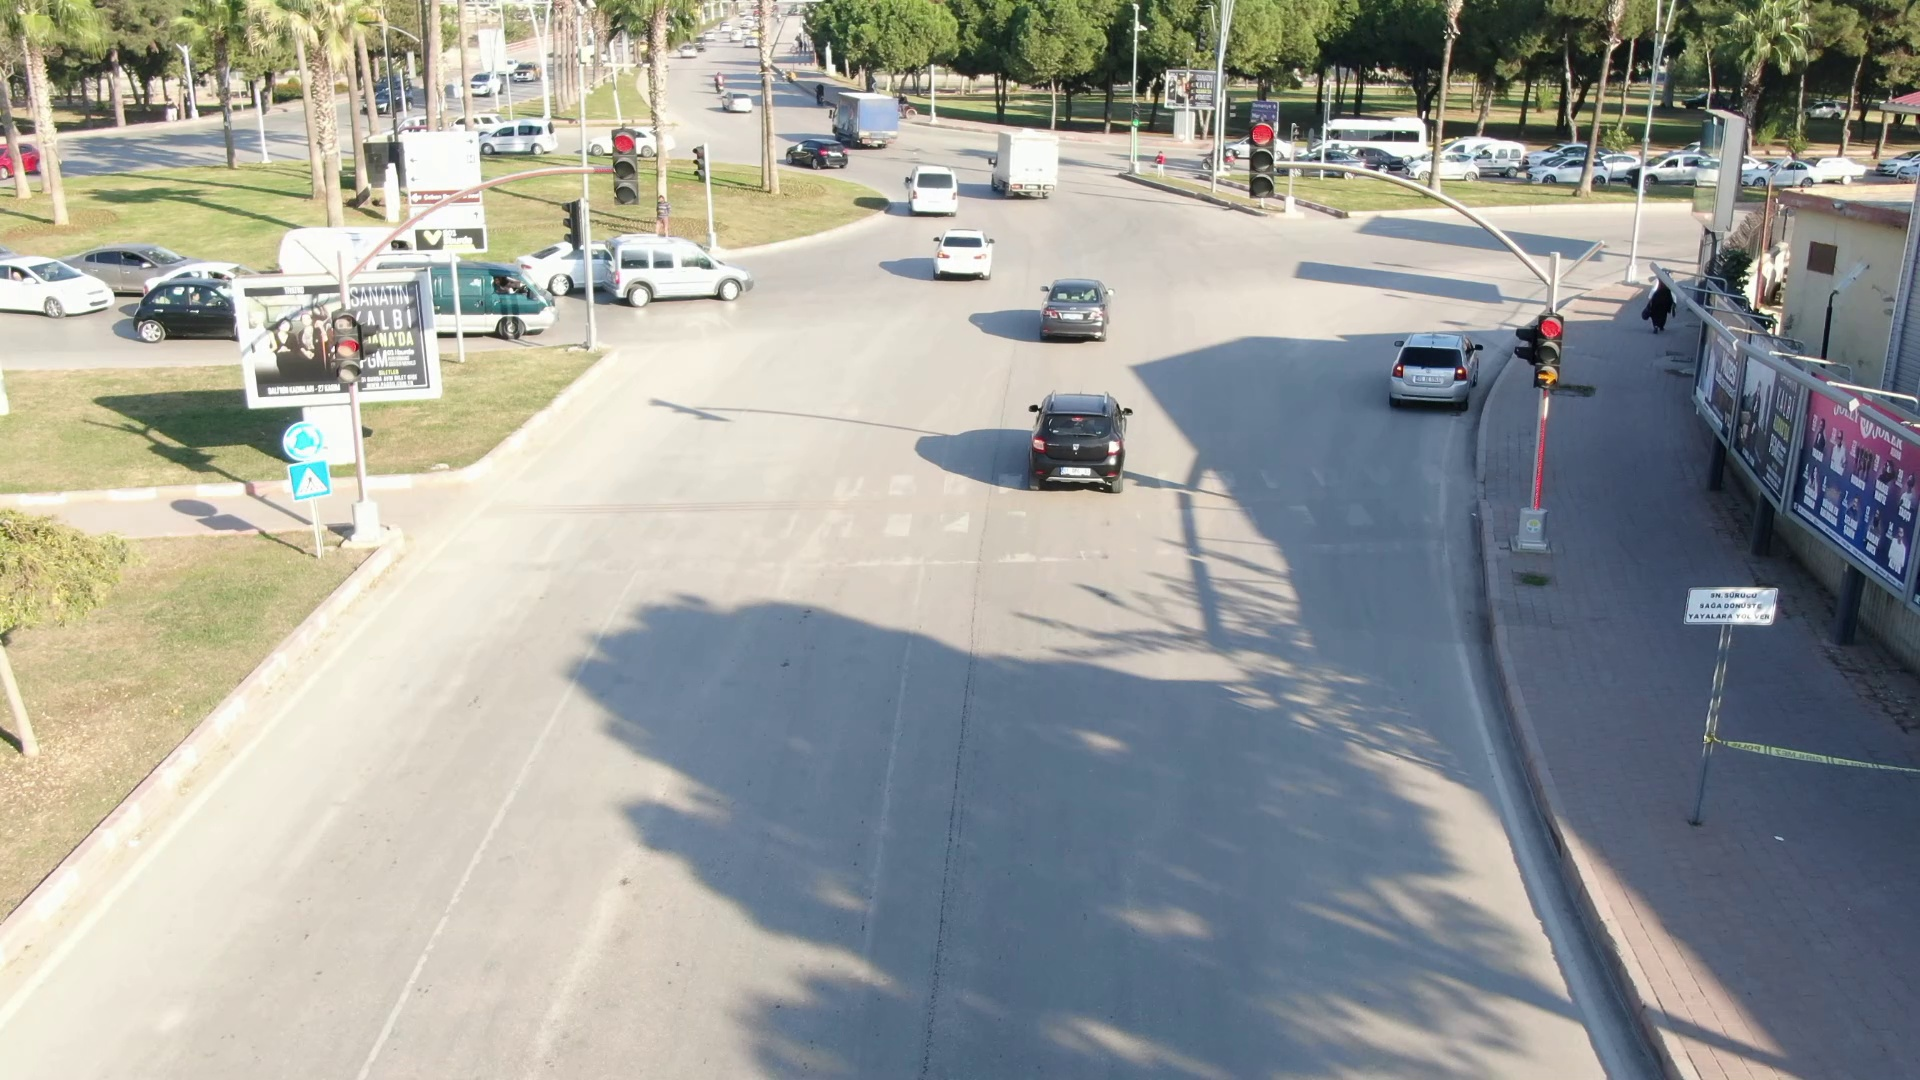car: (1004, 378, 1147, 510), (603, 226, 764, 310), (1370, 319, 1498, 419), (977, 119, 1080, 213), (1023, 267, 1130, 352), (823, 84, 914, 154), (918, 219, 1001, 288), (896, 157, 977, 224), (780, 125, 858, 181)
person: (1632, 261, 1693, 341)
